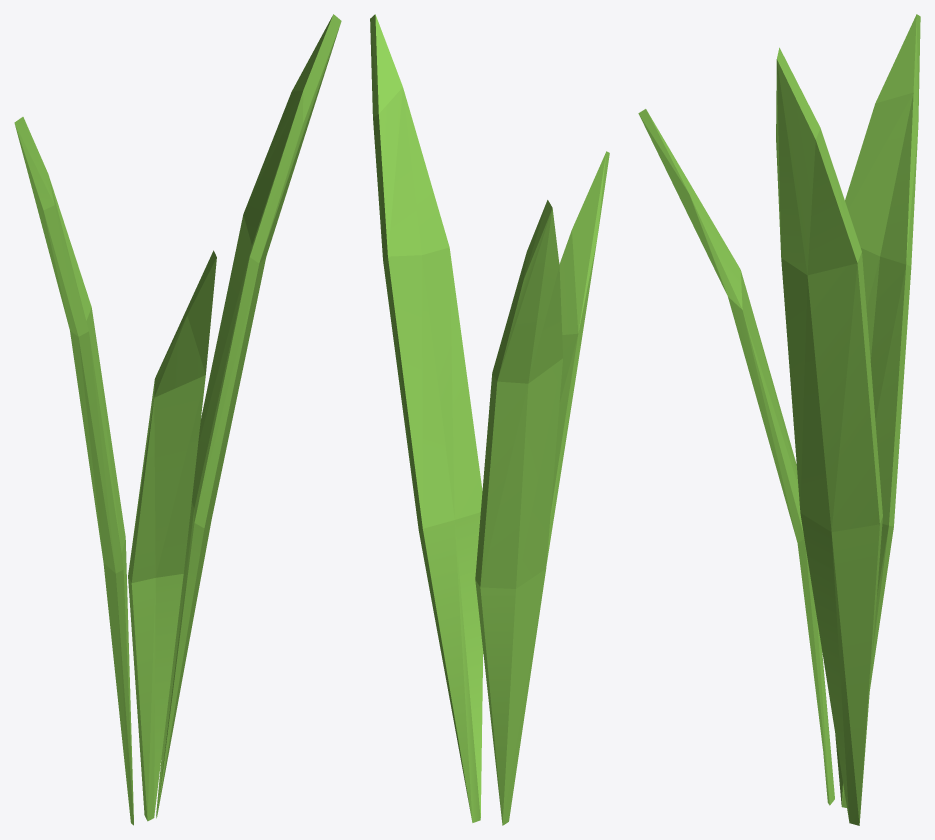
File: grass_02.fbx
3 renders of one model, left to right at view 1: azimuth 30°, elevation 25°; view 2: azimuth 150°, elevation 25°; view 3: azimuth 270°, elevation 25°, orthographic. The views are drawn at different scales.
Visible parts, largest first — view 1: grass_02; view 2: grass_02; view 3: grass_02.
Part boxes in pixels (bbox=[...]): grass_02: bbox=[14, 14, 341, 825]; grass_02: bbox=[370, 14, 609, 825]; grass_02: bbox=[638, 14, 920, 825].
Size of the model in its own units: 16.94 by 49.43 by 14.84.
